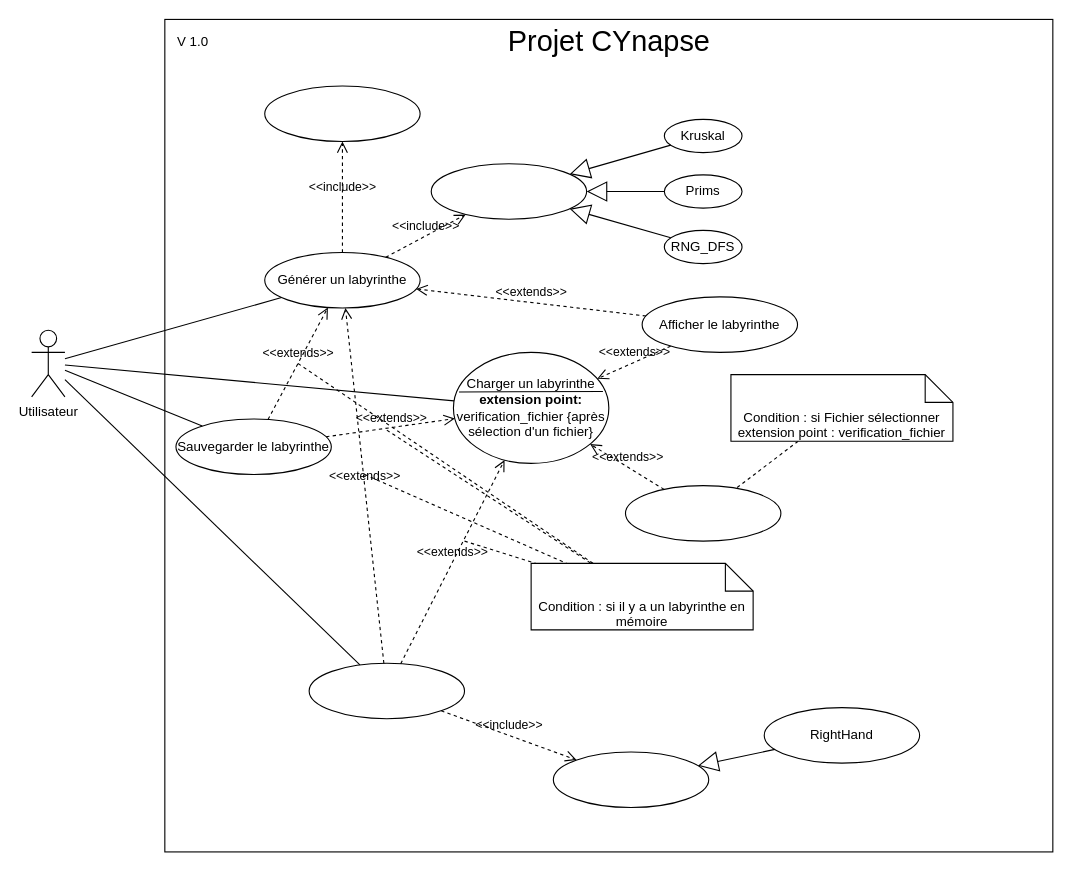
The diagram is 1072 pixels wide and 871 high, and some of its shapes have lost their labels. The shapes that lost their labels are listed below. From the top down, each one's centre as x and y in pixels, then its label:
the point at 342,113: Choisir taille du labyrinthe
the point at 508,191: Choisir méthode de génération
the point at 702,513: Vérifier validité du fichier
the point at 386,690: Résoudre le labyrinthe
the point at 630,779: Choisir méthode de résolution
